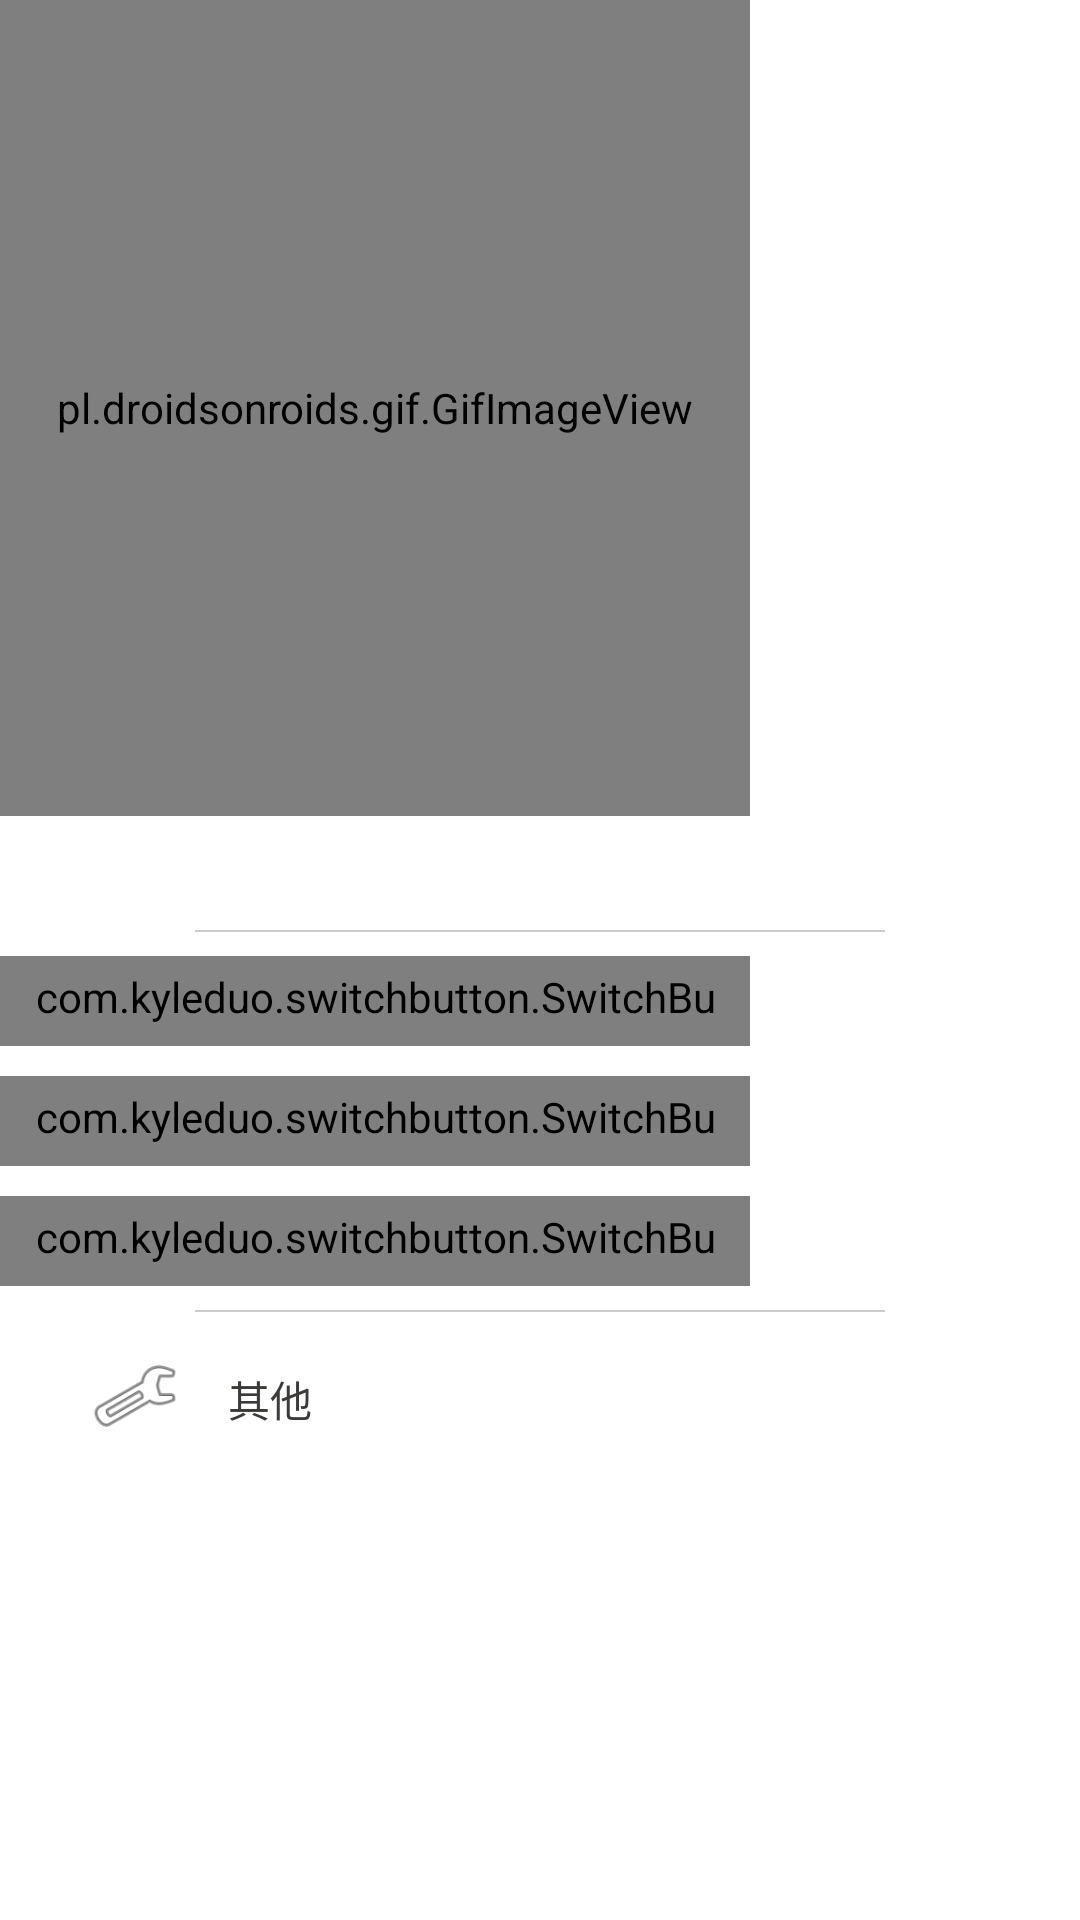

Icons on this 1080px x 1920px Android screen, each with its box as (x1, y1, x2, y2):
manage: (94, 1365, 176, 1427)
